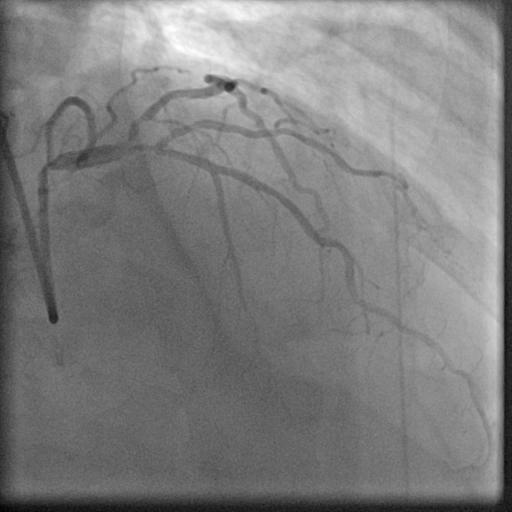Stenosis: (129, 108, 151, 133)
